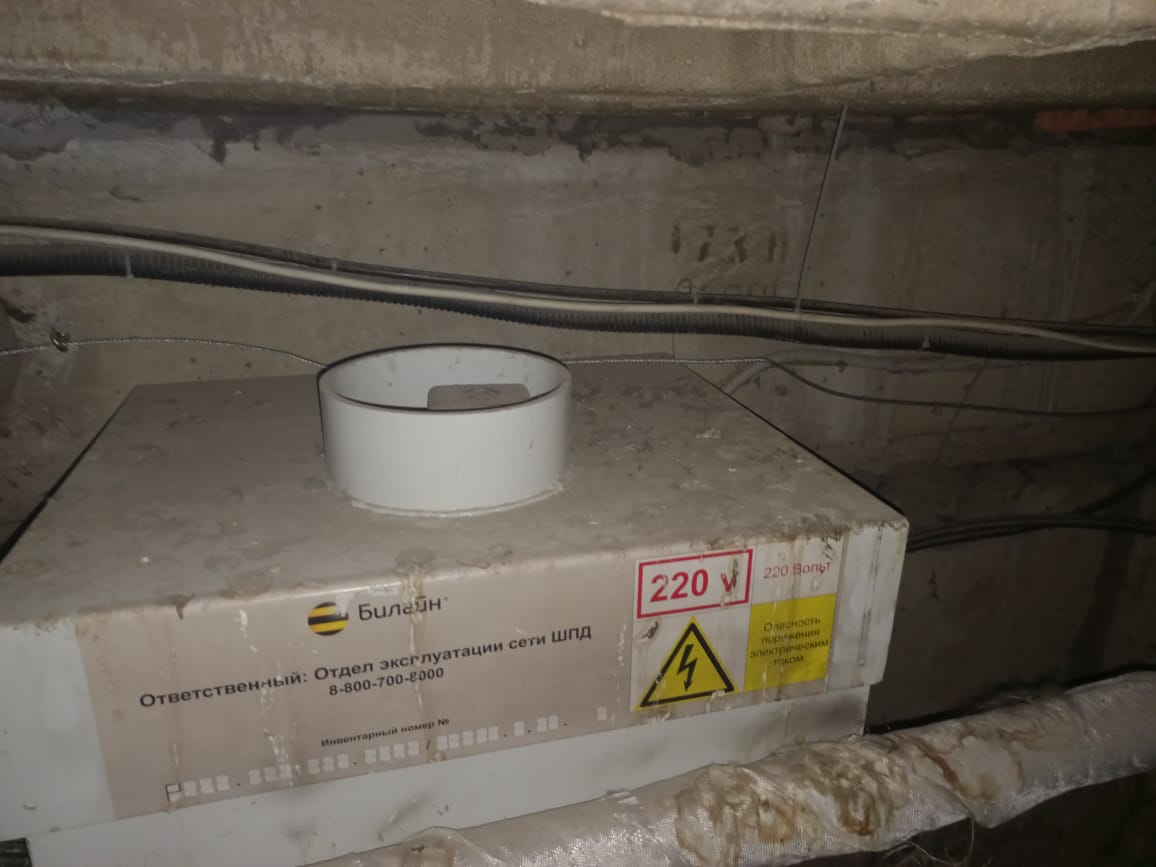shta-ps: (5, 329, 922, 856)
